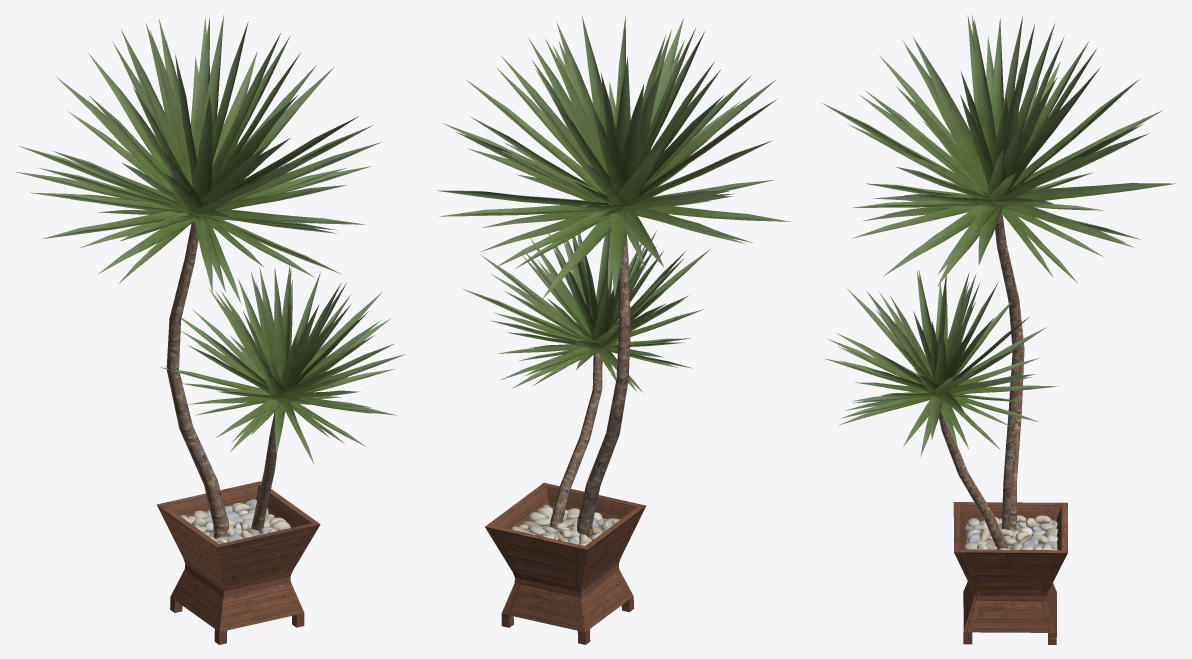
File: plant_tall.glb
3 views of the same model, side by side, from view 1: azimuth 30°, elevation 25°; view 2: azimuth 150°, elevation 25°; view 3: azimuth 270°, elevation 25° (orthographic). The views are drawn at different scales.
Visible parts, largest first — view 1: Spike_plant_1_Plane.1071, Spike_plant_2_Plane.1169, Pot_1_Plane.1171, Spike_trunk_2_Cylinder, Rock_0_Sphere.000, Spike_trunk_1_Cylinder.001; view 2: Spike_plant_1_Plane.1071, Pot_1_Plane.1171, Spike_plant_2_Plane.1169, Spike_trunk_2_Cylinder, Rock_0_Sphere.000, Spike_trunk_1_Cylinder.001; view 3: Spike_plant_1_Plane.1071, Spike_plant_2_Plane.1169, Pot_1_Plane.1171, Spike_trunk_2_Cylinder, Rock_0_Sphere.000, Spike_trunk_1_Cylinder.001.
Part boxes in pixels (x1,y1,x2,y2): Spike_plant_1_Plane.1071: [16, 15, 381, 304]; Spike_plant_2_Plane.1169: [159, 266, 405, 463]; Pot_1_Plane.1171: [156, 481, 320, 644]; Spike_trunk_2_Cylinder: [166, 222, 228, 538]; Rock_0_Sphere.000: [180, 499, 290, 543]; Spike_trunk_1_Cylinder.001: [251, 401, 281, 533]; Spike_plant_1_Plane.1071: [437, 16, 790, 299]; Pot_1_Plane.1171: [485, 482, 645, 644]; Spike_plant_2_Plane.1169: [463, 230, 711, 393]; Spike_trunk_2_Cylinder: [577, 212, 630, 537]; Rock_0_Sphere.000: [512, 504, 620, 545]; Spike_trunk_1_Cylinder.001: [549, 352, 602, 529]; Spike_plant_1_Plane.1071: [822, 15, 1175, 286]; Spike_plant_2_Plane.1169: [824, 270, 1058, 457]; Pot_1_Plane.1171: [953, 502, 1067, 644]; Spike_trunk_2_Cylinder: [995, 213, 1024, 537]; Rock_0_Sphere.000: [964, 515, 1057, 550]; Spike_trunk_1_Cylinder.001: [938, 397, 1008, 549].
Size of the model in its own units: 1.08 by 1.8 by 1.02.
12 materials, 5 textured.
